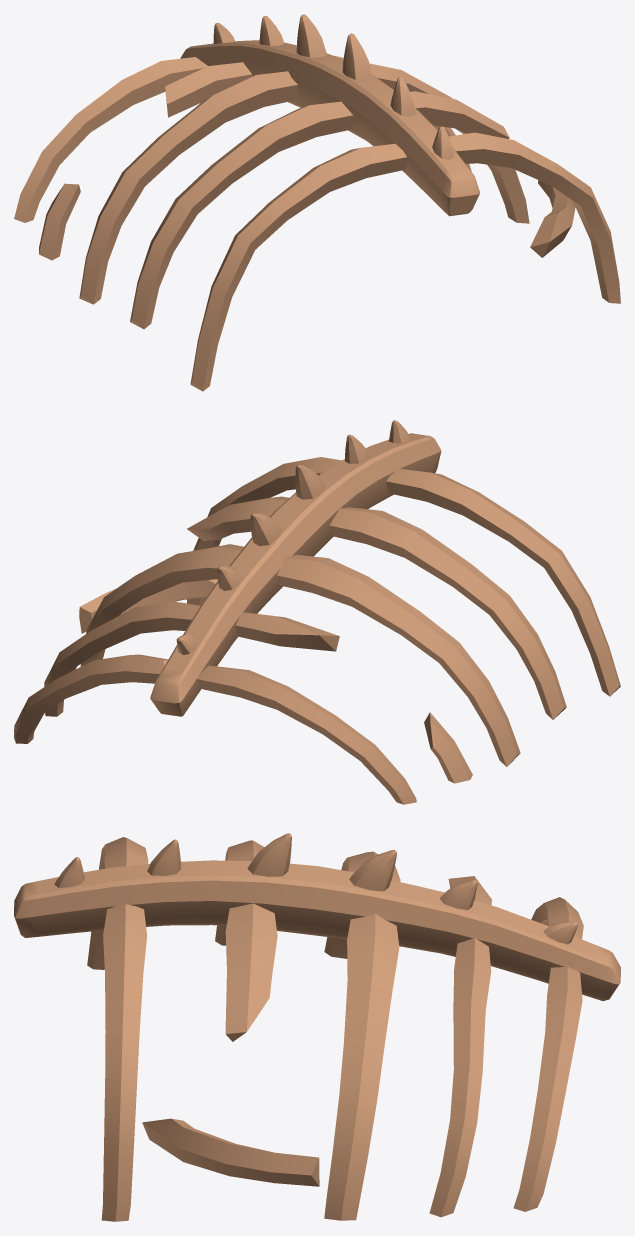
File: Environment_LargeBones.glb
3 views of the same model, one above another, from view 1: azimuth 30°, elevation 25°; view 2: azimuth 150°, elevation 25°; view 3: azimuth 270°, elevation 25° (orthographic). The views are drawn at different scales.
Visible parts, largest first — view 1: Environment_LargeBones; view 2: Environment_LargeBones; view 3: Environment_LargeBones.
Part boxes in pixels (<box>): Environment_LargeBones: <box>14,14,620,391</box>; Environment_LargeBones: <box>14,420,620,804</box>; Environment_LargeBones: <box>14,833,620,1221</box>.
Size of the model in its own units: 6.5 by 3.43 by 6.62.
1 material, 1 textured.
